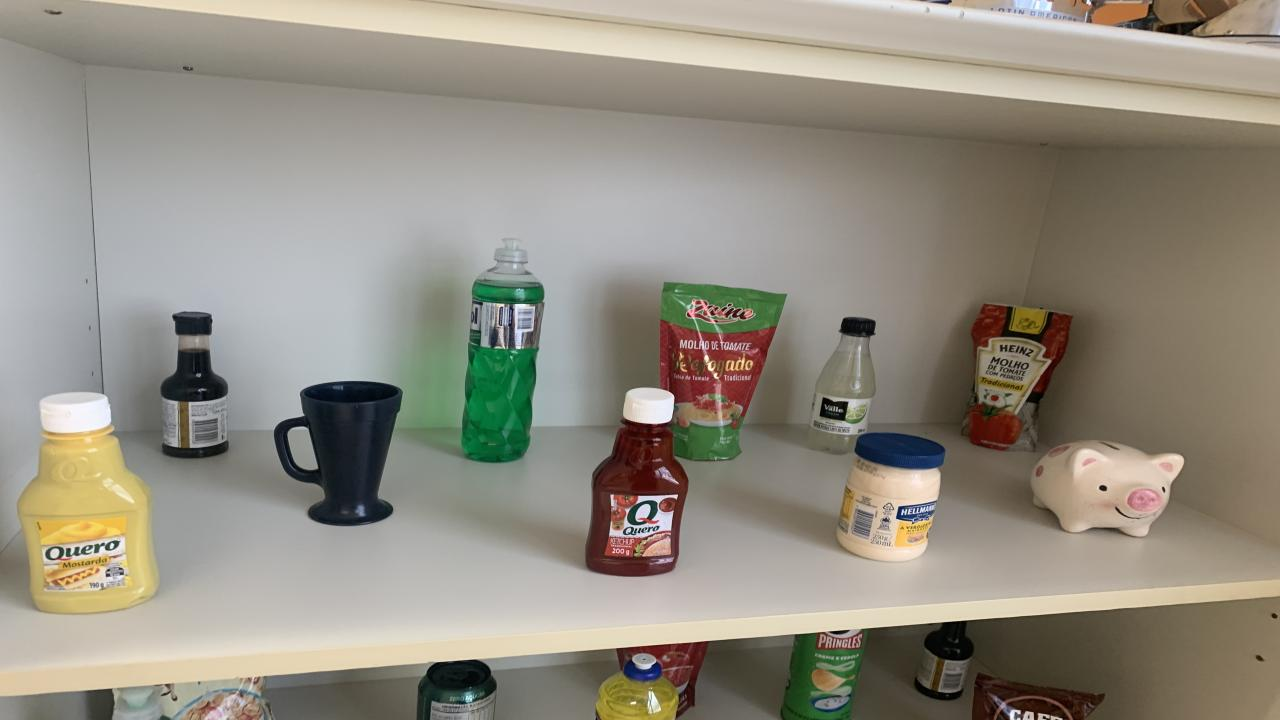Coffee-Pantry_Items: (972, 673, 1105, 720)
Detergent-Cleanup_Items: (462, 238, 545, 463), (595, 652, 678, 720), (112, 686, 165, 720)
English_Sauce-Pantry_Items: (160, 311, 228, 458), (915, 621, 972, 699)
Flakes-Snacks: (160, 677, 275, 720)
Guarana_Can-Drinks: (418, 660, 498, 720)
Ketchup-Pantry_Items: (585, 388, 688, 576)
Mayonnaise-Pantry_Items: (838, 431, 945, 562)
Mustard-Pantry_Items: (18, 392, 158, 613)
Pig_Safe-Miscellaneous: (1030, 441, 1185, 536)
Pringles-Snacks: (780, 630, 868, 720)
Soda-Drinks: (808, 317, 875, 454)
Tomato_Sauce-Pantry_Items: (660, 283, 785, 461), (962, 304, 1072, 450), (618, 641, 708, 716)
